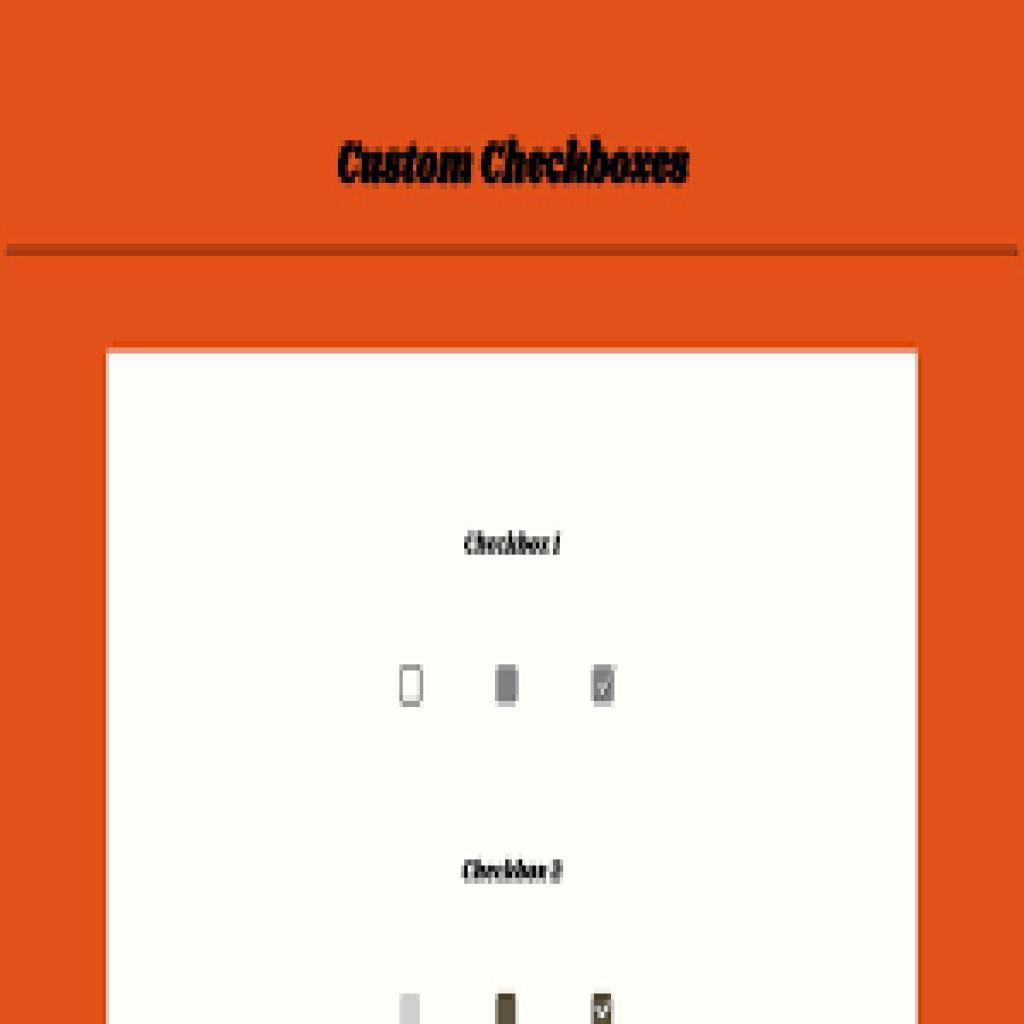checkbox: (488, 659, 528, 712), (393, 659, 432, 713), (587, 657, 623, 714)
